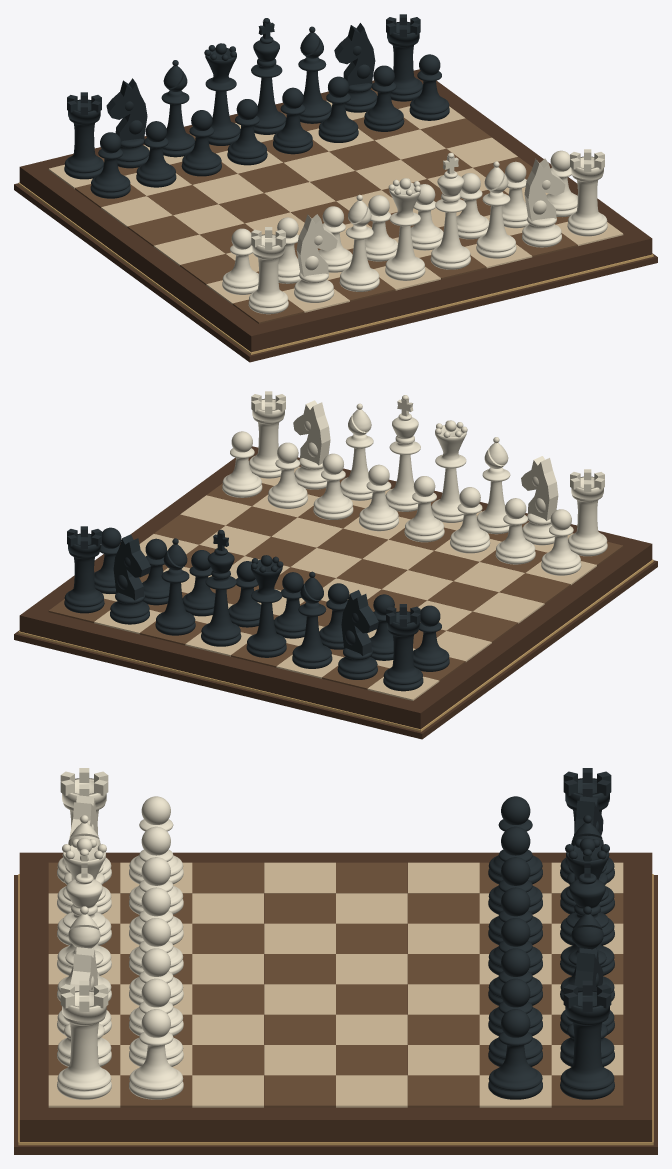
Rendered from complete_chess_set.glb.
The picture shows the model from 3 angles, top to bottom: view 1: azimuth 30°, elevation 25°; view 2: azimuth 150°, elevation 25°; view 3: azimuth 270°, elevation 25°; orthographic projection. The views are drawn at different scales.
Parts seen in each view (by area): view 1: Walnut board frame, Lower plinth, White knight g1, White knight b1, White king e1, White queen d1, Black knight g8, Black knight b8, White rook a1, White rook h1, Black rook a8, Black king e8 (+60 smaller); view 2: Walnut board frame, Lower plinth, Black knight g8, Black knight b8, Black king e8, Black queen d8, Black rook a8, Black rook h8, White rook a1, White knight g1, White knight b1, White king e1 (+60 smaller); view 3: Walnut board frame, Lower plinth, White rook h1, Black rook h8, Brass reveal, White pawn h2, Black pawn h7, Square h3, Square h4, Square h5, Square h6, Square a3 (+87 smaller).
Boxes of the visible parts, bbox=[...] form: Walnut board frame: bbox=[19, 69, 652, 352]; Lower plinth: bbox=[14, 183, 657, 362]; White knight g1: bbox=[522, 158, 565, 247]; White knight b1: bbox=[294, 214, 337, 302]; White king e1: bbox=[430, 152, 470, 269]; White queen d1: bbox=[385, 178, 425, 280]; Black knight g8: bbox=[334, 23, 377, 112]; Black knight b8: bbox=[106, 78, 149, 168]; White rook a1: bbox=[248, 227, 288, 314]; White rook h1: bbox=[567, 149, 607, 236]; Black rook a8: bbox=[64, 92, 103, 179]; Black king e8: bbox=[251, 18, 286, 134]; Walnut board frame: bbox=[19, 446, 652, 729]; Lower plinth: bbox=[14, 560, 657, 739]; Black knight g8: bbox=[110, 534, 150, 624]; Black knight b8: bbox=[337, 590, 378, 679]; Black king e8: bbox=[201, 529, 241, 646]; Black queen d8: bbox=[246, 555, 286, 657]; Black rook a8: bbox=[383, 604, 423, 691]; Black rook h8: bbox=[64, 526, 104, 613]; White rook a1: bbox=[568, 469, 607, 556]; White knight g1: bbox=[293, 400, 330, 489]; White knight b1: bbox=[521, 456, 558, 545]; White king e1: bbox=[385, 395, 420, 511]; Walnut board frame: bbox=[19, 852, 652, 1141]; Lower plinth: bbox=[14, 875, 657, 1154]; White rook h1: bbox=[57, 980, 111, 1099]; Black rook h8: bbox=[560, 980, 614, 1099]; Brass reveal: bbox=[18, 874, 653, 1145]; White pawn h2: bbox=[129, 1009, 183, 1099]; Black pawn h7: bbox=[488, 1009, 542, 1099]; Square h3: bbox=[192, 1075, 263, 1107]; Square h4: bbox=[264, 1075, 335, 1107]; Square h5: bbox=[336, 1075, 407, 1107]; Square h6: bbox=[408, 1075, 479, 1107]; Square a3: bbox=[192, 862, 263, 893].
Bounding box in the file's own units: 0.448 × 0.1417 × 0.448.
